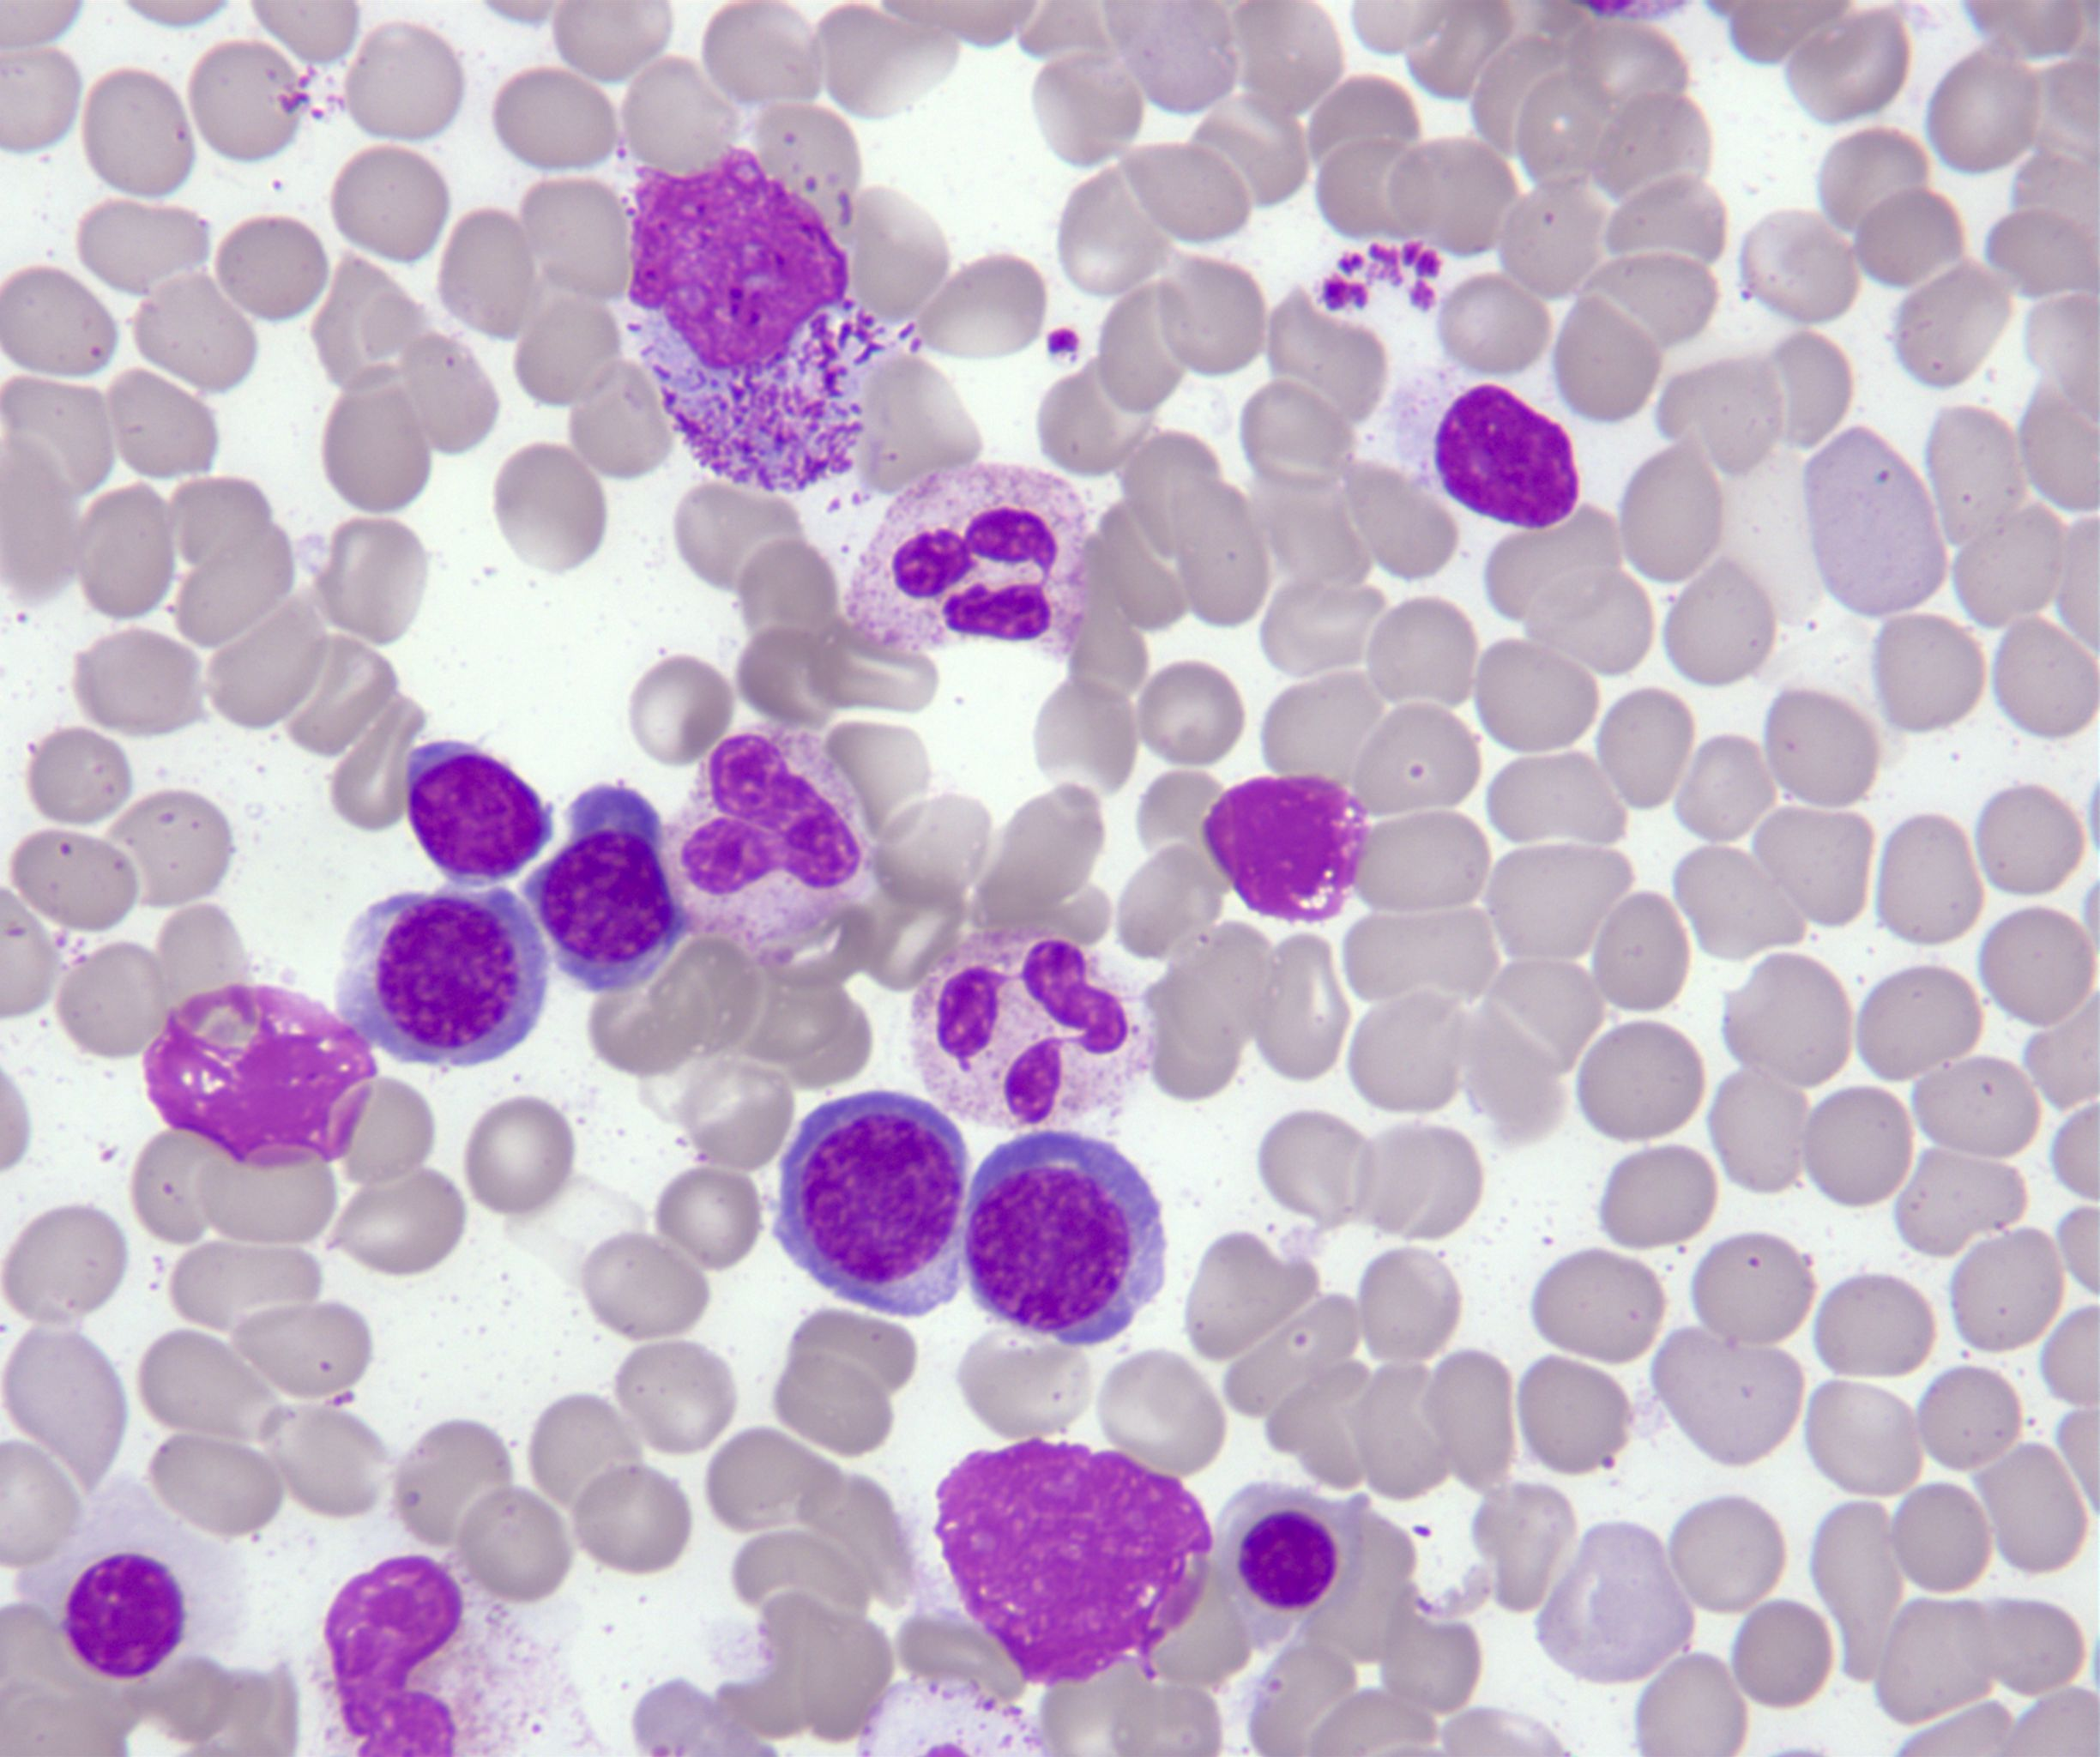23: (771, 1085, 978, 1324), (965, 1124, 1172, 1350), (333, 881, 553, 1070), (516, 778, 689, 995)
24: (1223, 1476, 1357, 1619)
32: (1425, 379, 1585, 537), (401, 736, 558, 883)
5: (659, 717, 879, 954)
6: (839, 455, 1097, 672), (909, 925, 1158, 1134)
x: (924, 1436, 1217, 1692), (619, 145, 851, 380), (1195, 773, 1373, 926), (52, 1548, 195, 1689)
